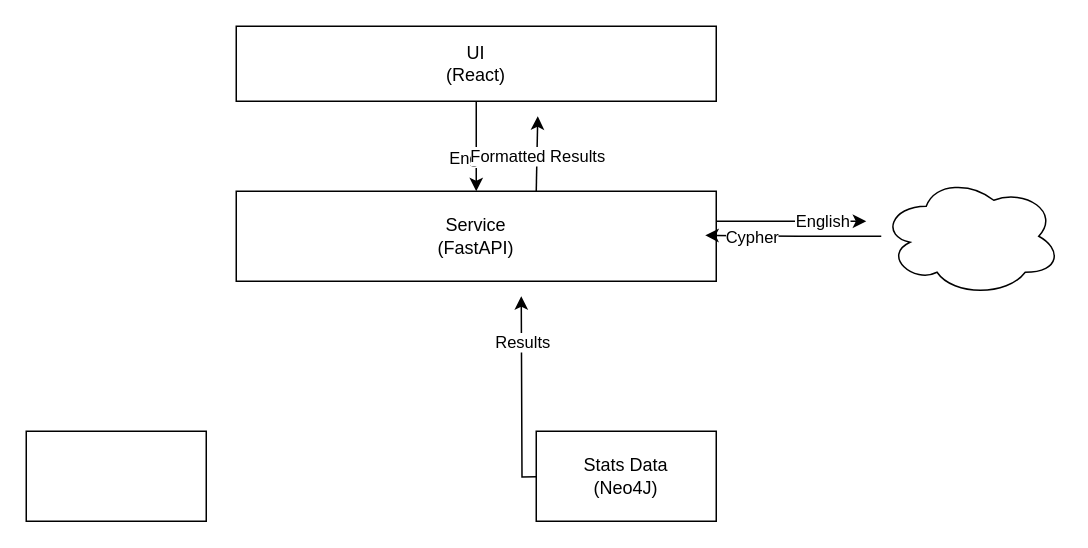
Some shapes in this 1088 by 548 pixel diagram are drawn without their labels. The centre of each missing label's shape, as x and y in pixels:
"OpenAI" belongs at [970,235].
"User Data (Cosmos)" belongs at [115,475].
